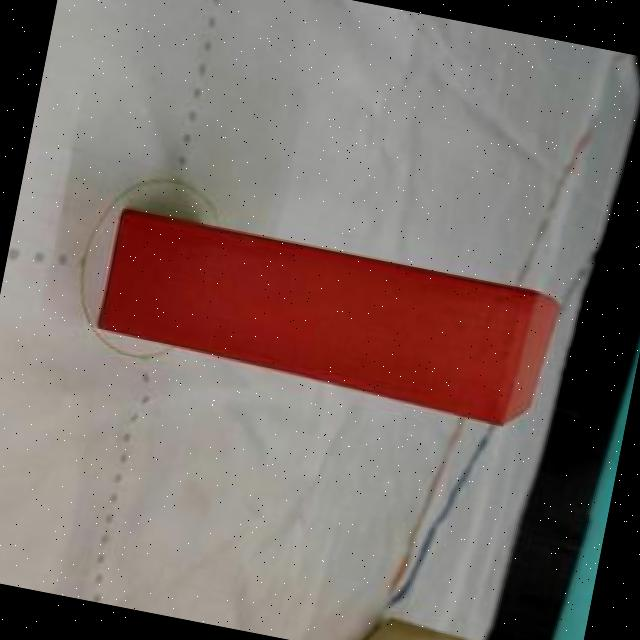redbox: (91, 205, 566, 434)
